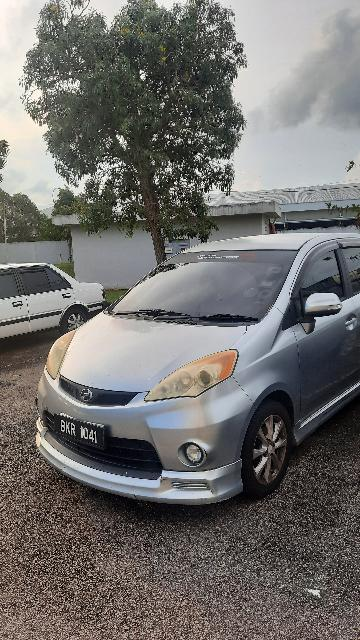License_Plate: (50, 418, 112, 453)
car: (37, 230, 360, 515), (5, 252, 111, 347)
